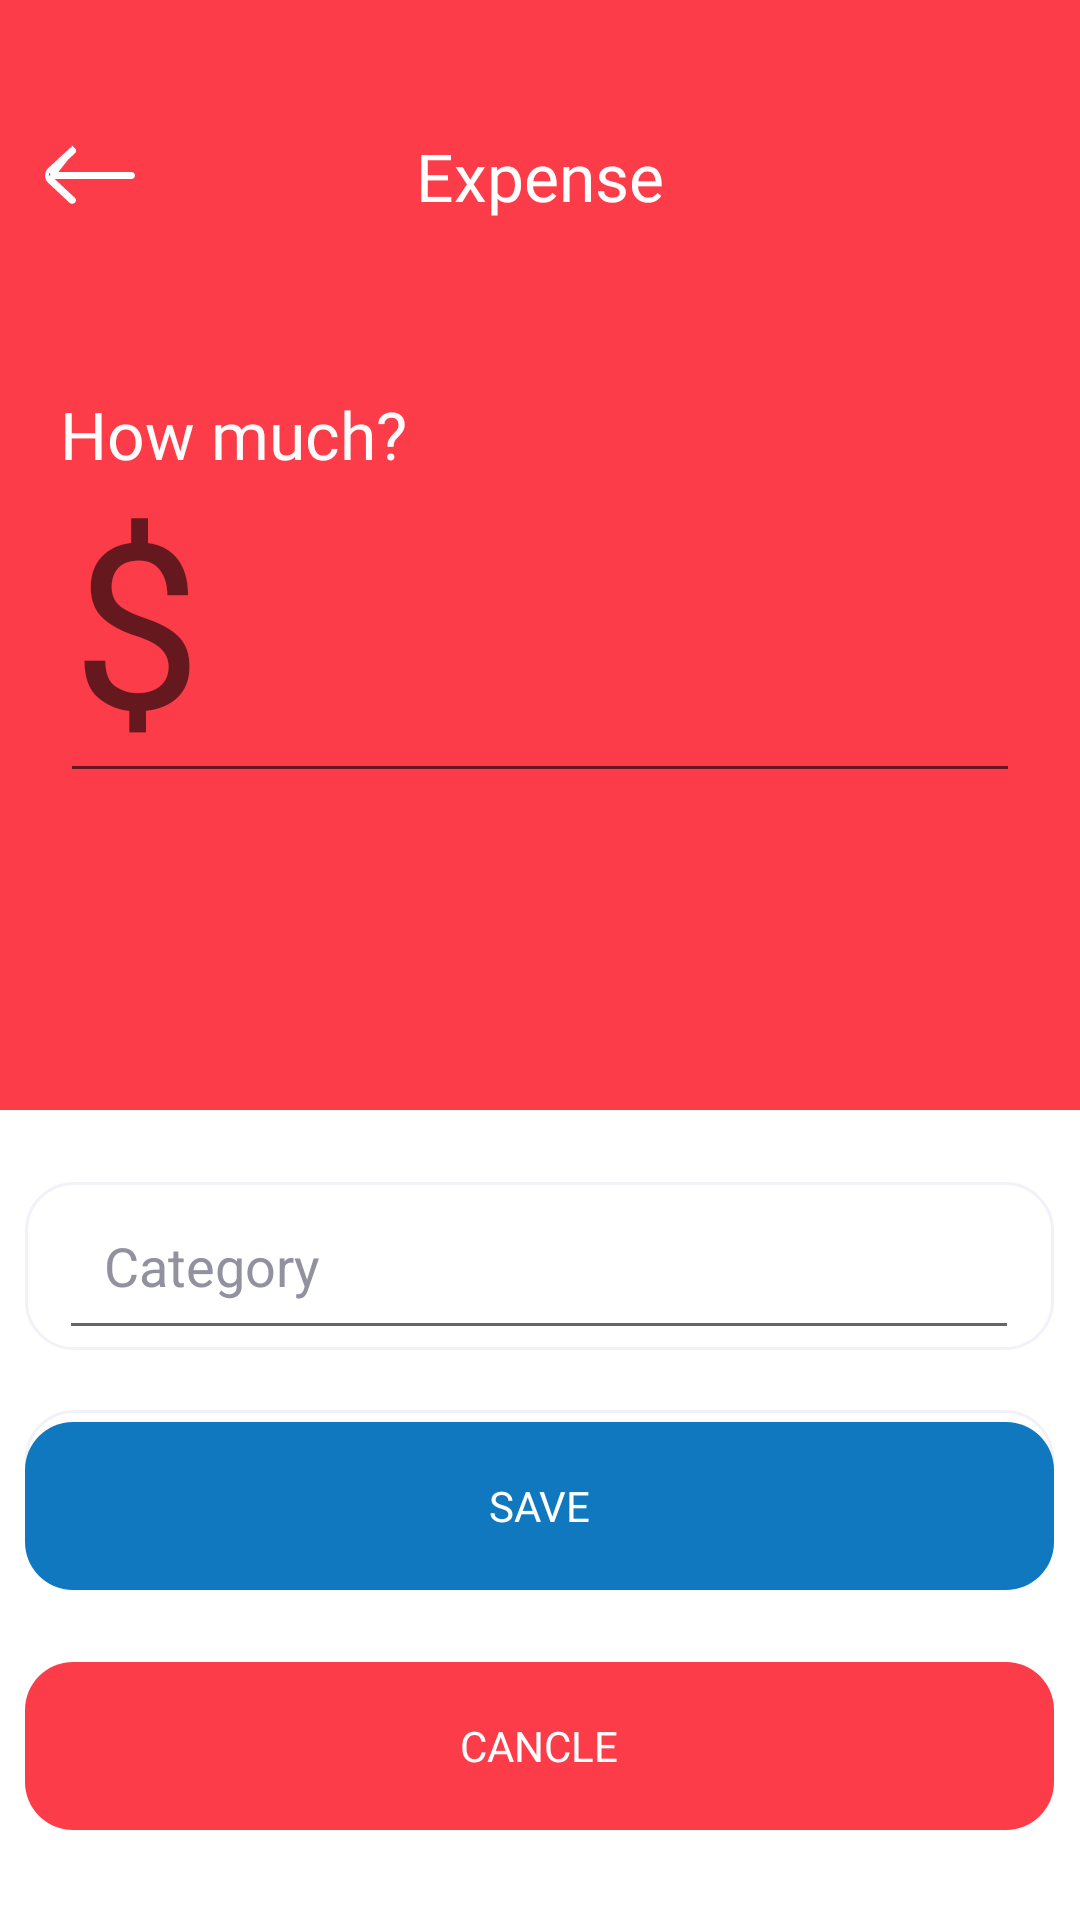

Icons on this 1080px×1920px Android screen, each with its box as (x1, y1, x2, y2):
arrow top back: (45, 146, 135, 204)
